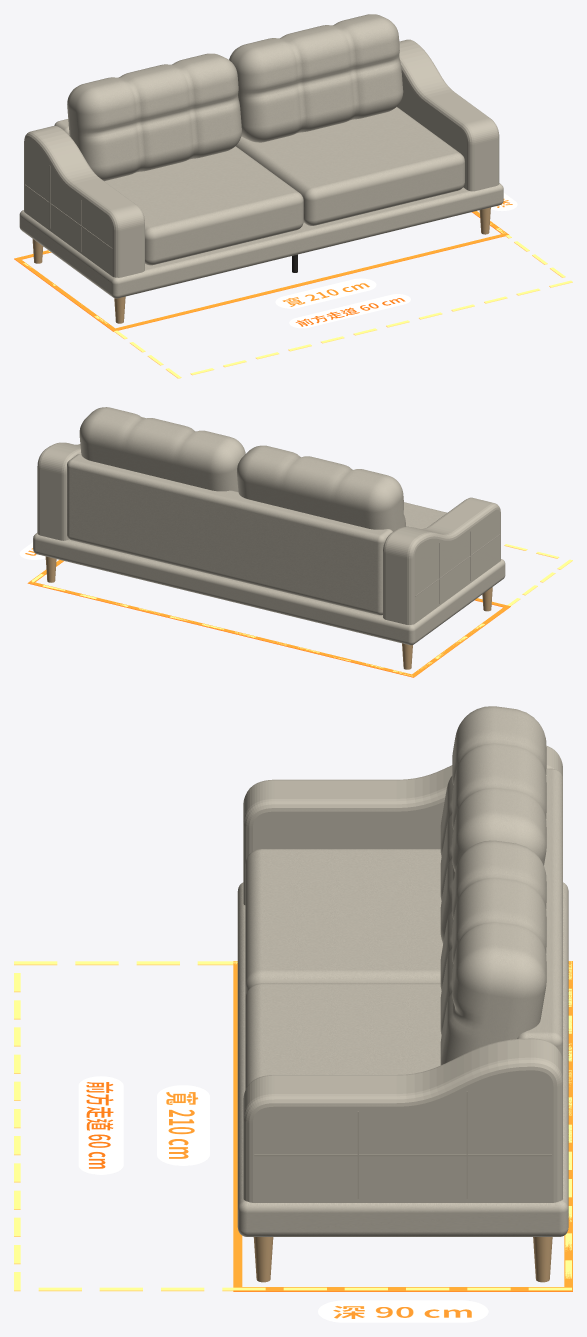
The model's file is ownDanSofa-f.glb.
3 renders of one model, top to bottom at view 1: azimuth 30°, elevation 25°; view 2: azimuth 150°, elevation 25°; view 3: azimuth 270°, elevation 25°, orthographic. The views are drawn at different scales.
Visible parts, largest first — view 1: object 17, object 19, object 18, object 16, object 6, object 7, object 11, ar-frame; view 2: object 15, object 6, object 7, object 17, object 19, object 11, ar-frame, object 16; view 3: object 11, object 16, ar-frame, object 19, object 18, object 6, object 7, object 17, object 15, object 12, object 3, object 4.
Boxes of the visible parts, bbox=[...] form: object 17: bbox=[67, 53, 241, 181]; object 19: bbox=[229, 14, 403, 142]; object 18: bbox=[236, 107, 464, 225]; object 16: bbox=[104, 146, 303, 265]; object 6: bbox=[19, 183, 503, 298]; object 7: bbox=[24, 126, 144, 277]; object 11: bbox=[397, 39, 499, 191]; ar-frame: bbox=[14, 193, 572, 378]; object 15: bbox=[67, 454, 392, 615]; object 6: bbox=[33, 533, 505, 645]; object 7: bbox=[383, 497, 500, 624]; object 17: bbox=[237, 445, 406, 531]; object 19: bbox=[79, 407, 245, 491]; object 11: bbox=[37, 417, 145, 540]; ar-frame: bbox=[19, 542, 572, 677]; object 16: bbox=[403, 502, 446, 528]; object 11: bbox=[243, 1038, 562, 1202]; object 16: bbox=[245, 849, 442, 997]; ar-frame: bbox=[14, 961, 572, 1322]; object 19: bbox=[440, 840, 546, 1064]; object 18: bbox=[245, 983, 441, 1089]; object 6: bbox=[237, 882, 568, 1236]; object 7: bbox=[243, 745, 562, 904]; object 17: bbox=[440, 706, 546, 943]; object 15: bbox=[517, 768, 562, 1060]; object 12: bbox=[254, 1154, 551, 1156]; object 3: bbox=[533, 1237, 552, 1282]; object 4: bbox=[253, 1237, 273, 1282].
Size of the model in its own units: 2.33 by 0.899 by 1.52.
Materials: 9 (5 with a texture image).
